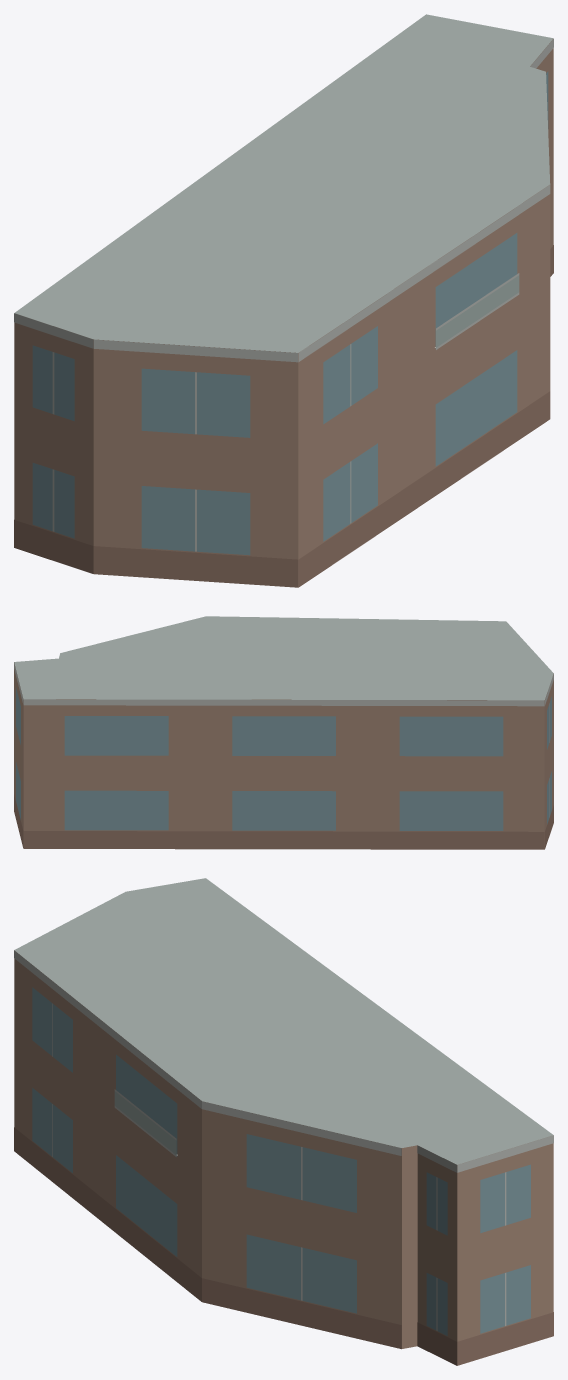
Rendered from survey-upis-33033537.glb.
3 renders of one model, top to bottom at view 1: azimuth 30°, elevation 25°; view 2: azimuth 150°, elevation 25°; view 3: azimuth 270°, elevation 25°, orthographic. The views are drawn at different scales.
Parts seen in each view (by area): view 1: survey-upis-33033537.tmp; view 2: survey-upis-33033537.tmp; view 3: survey-upis-33033537.tmp.
Boxes of the visible parts, x1,y1,x2,y2 form: survey-upis-33033537.tmp: [14, 14, 553, 587]; survey-upis-33033537.tmp: [14, 616, 553, 849]; survey-upis-33033537.tmp: [14, 878, 553, 1365].
Size of the model in its own units: 18.68 by 6.1 by 14.86.
